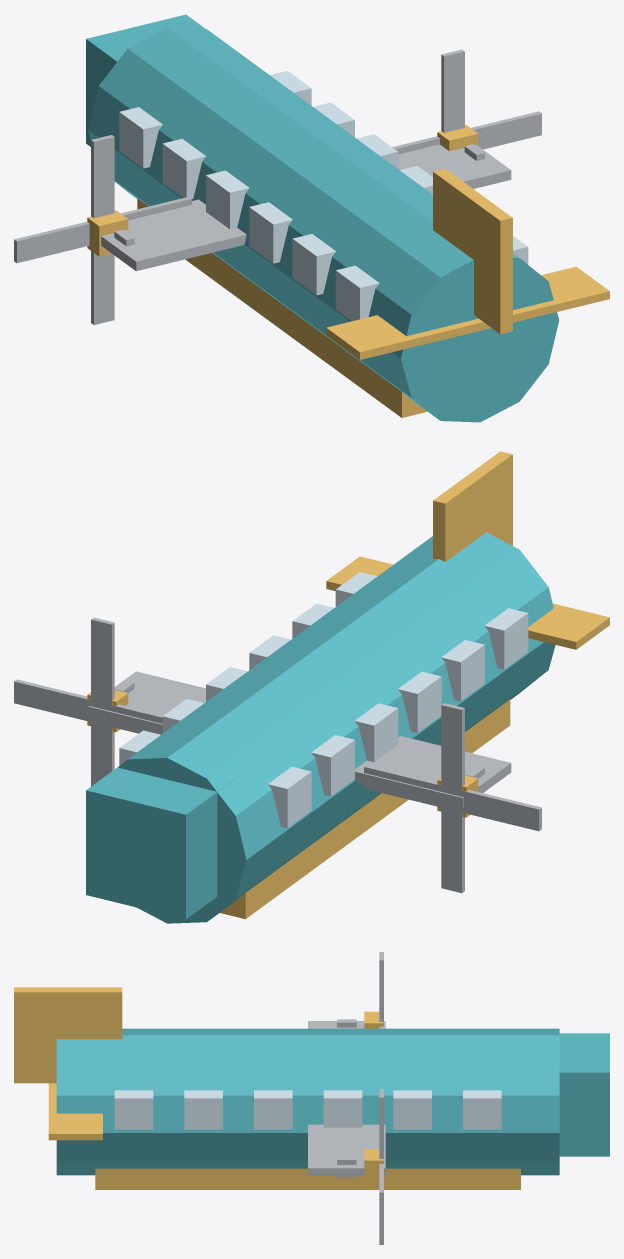
File: battle_bus.glb
3 views of the same model, one above another, from view 1: azimuth 30°, elevation 25°; view 2: azimuth 150°, elevation 25°; view 3: azimuth 270°, elevation 25° (orthographic). The views are drawn at different scales.
Parts seen in each view (by area): view 1: Bus, PropL, PropR; view 2: Bus, PropL, PropR; view 3: Bus, PropR, PropL.
Part boxes in pixels (x1,y1,x2,y2): Bus: [86, 14, 609, 422]; PropL: [14, 135, 191, 324]; PropR: [392, 49, 541, 154]; Bus: [86, 451, 609, 923]; PropL: [364, 703, 541, 893]; PropR: [14, 617, 163, 786]; Bus: [14, 987, 609, 1189]; PropR: [364, 1089, 383, 1244]; PropL: [364, 952, 383, 1028].
Size of the model in its own units: 12.6 by 5.2 by 15.4.
